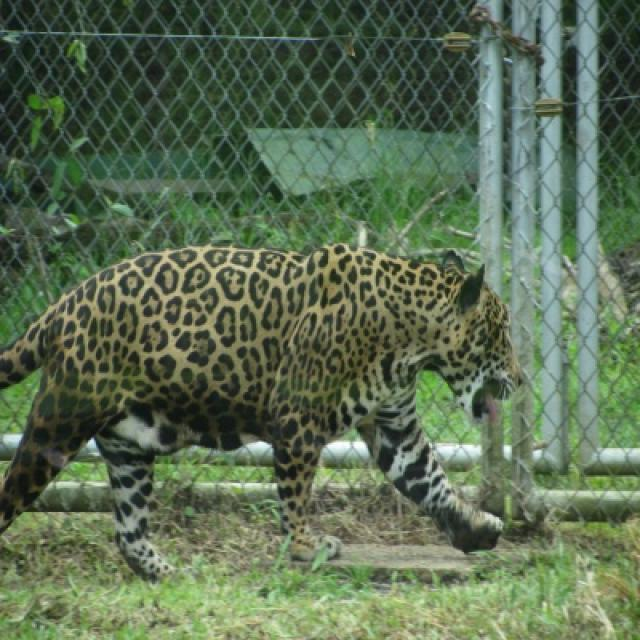Jaguar: (0, 245, 525, 584)
